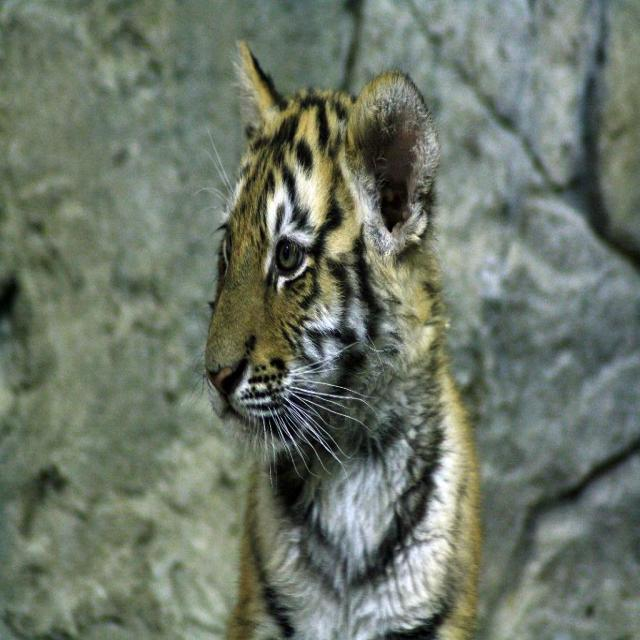Tiger: (178, 33, 485, 640)
